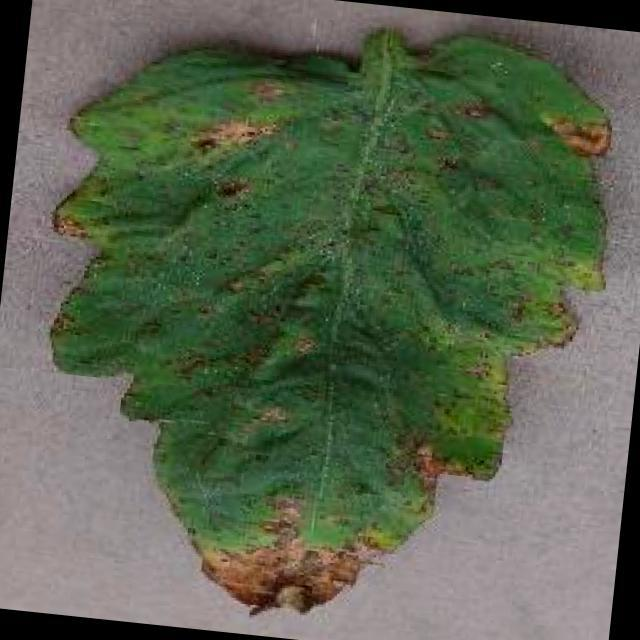Tomato bacterial spot leaf: (10, 0, 632, 640)
